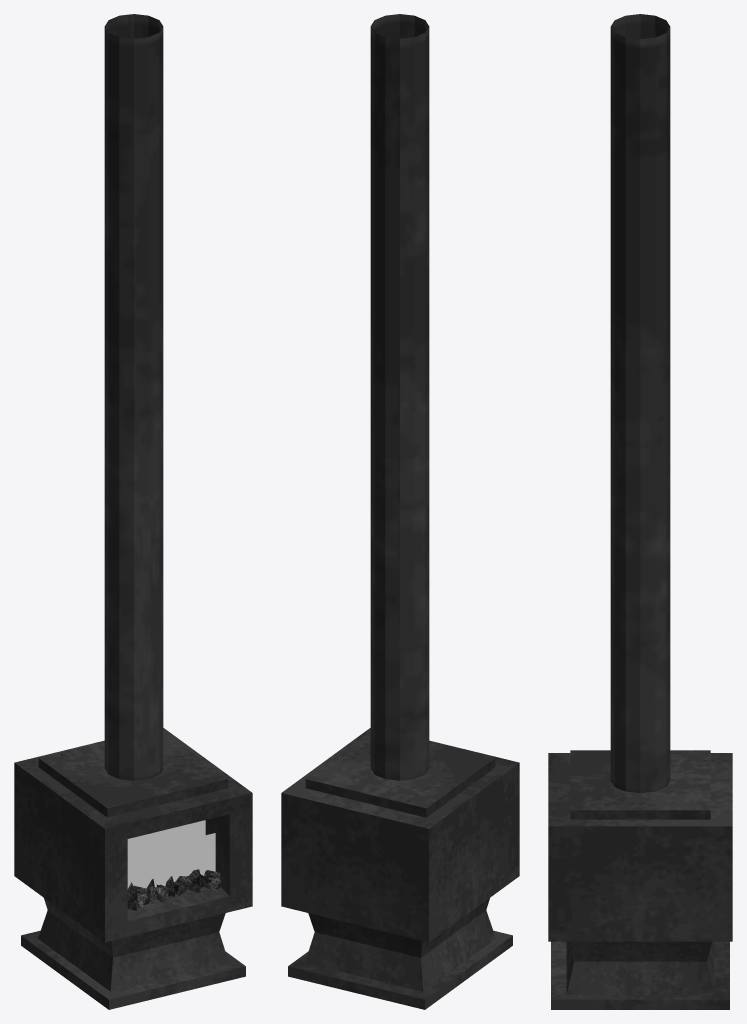
File: fireplace.glb
The picture shows the model from 3 angles, left to right: view 1: azimuth 30°, elevation 25°; view 2: azimuth 150°, elevation 25°; view 3: azimuth 270°, elevation 25°; orthographic projection.
Parts seen in each view (by area): view 1: Chimney.001, Fireplace.001, fire-1.001, Coal.001, fire-2.001; view 2: Fireplace.001, Chimney.001; view 3: Chimney.001, Fireplace.001.
Boxes of the visible parts, x1,y1,x2,y2 form: Chimney.001: (104,14,163,780); Fireplace.001: (14,728,252,1009); fire-1.001: (127,833,215,890); Coal.001: (127,869,221,910); fire-2.001: (127,820,205,853); Fireplace.001: (281,728,519,1009); Chimney.001: (370,14,429,780); Chimney.001: (610,14,670,793); Fireplace.001: (548,750,732,1009).
Bounding box in the file's own units: 0.7762 × 4.7 × 0.8258.
2 materials, 2 textured.
